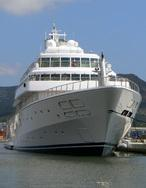yacht: (5, 24, 138, 152)
